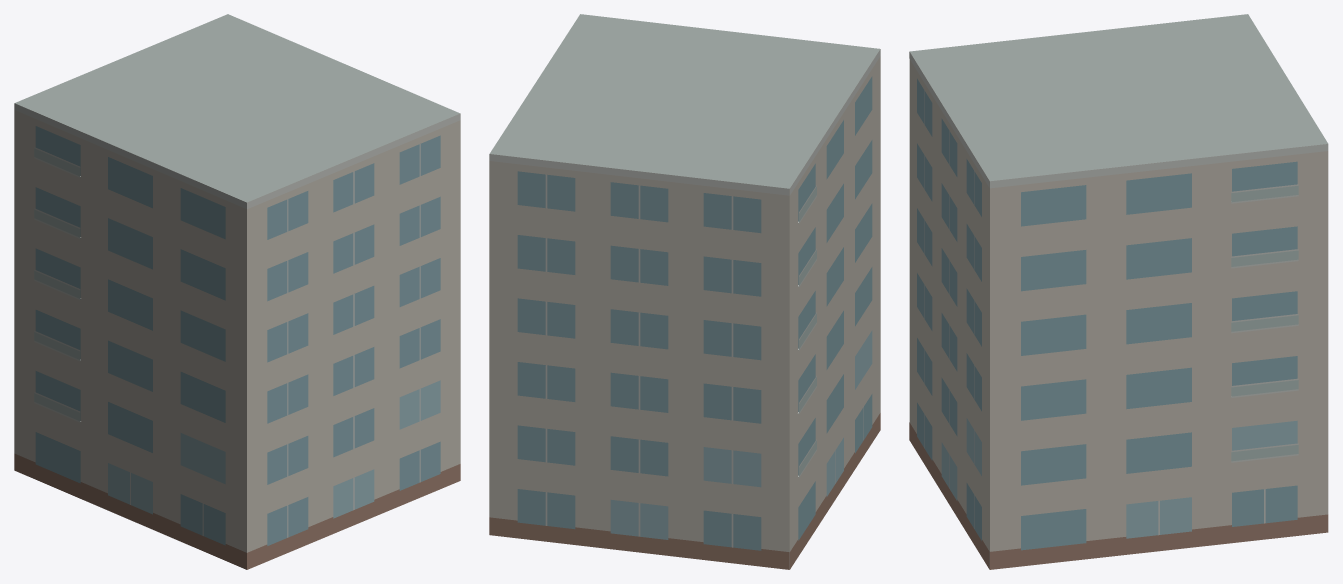
The model's file is survey-upis-32649470.glb.
3 renders of one model, left to right at view 1: azimuth 30°, elevation 25°; view 2: azimuth 150°, elevation 25°; view 3: azimuth 270°, elevation 25°, orthographic. The views are drawn at different scales.
Parts seen in each view (by area): view 1: survey-upis-32649470.tmp; view 2: survey-upis-32649470.tmp; view 3: survey-upis-32649470.tmp.
Boxes of the visible parts, box(x1,y1,x2,y2) form: survey-upis-32649470.tmp: box(14, 14, 460, 569); survey-upis-32649470.tmp: box(489, 14, 880, 569); survey-upis-32649470.tmp: box(909, 14, 1328, 569).
Bounding box in the file's own units: 12.29 × 13.3 × 13.
